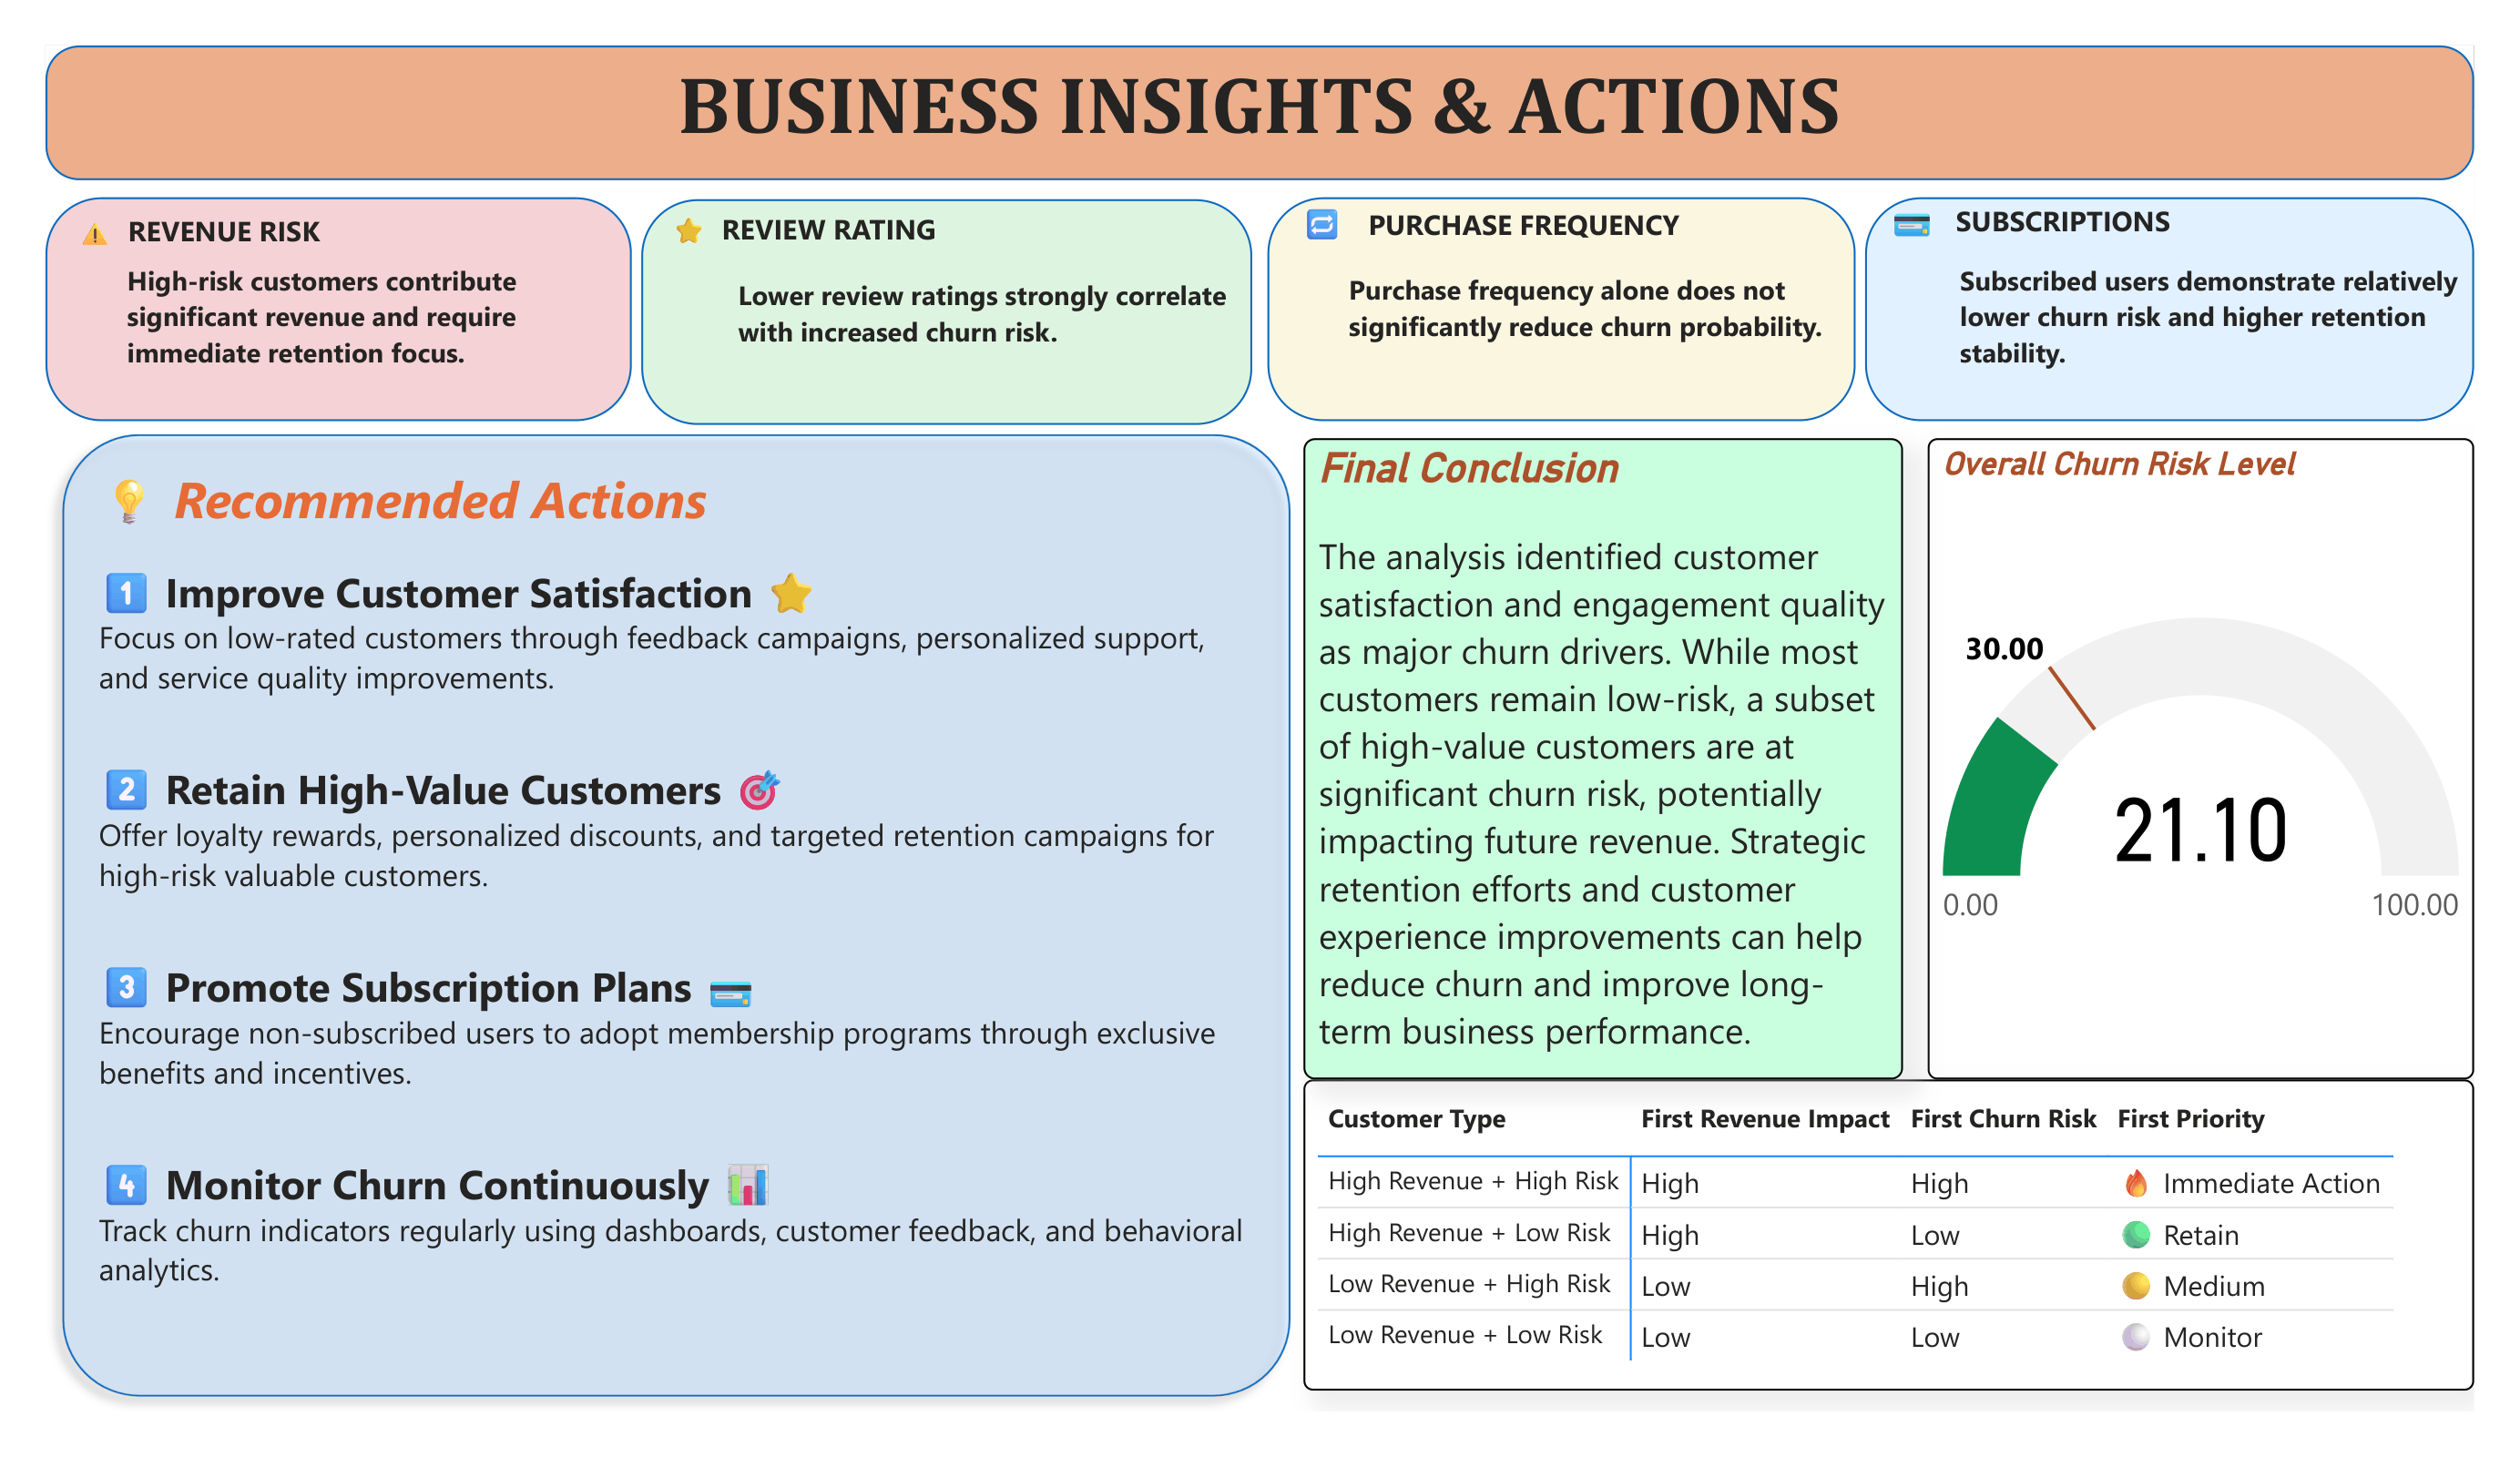

What the dashboard file says about the page in this screenshot:
{"tool":"powerbi","page":{"name":"Page 4","canvas":[1280,720],"ordinal":3},"visuals":[{"type":"shape","box":[0,0,1280,70.9],"z":0},{"type":"textbox","box":[309.4,0,660.3,61.1],"z":1000},{"type":"shape","box":[0,80.2,309.4,118.6],"z":2000,"group":"g2"},{"type":"gauge","title":"Overall Churn Risk Level","fields":{"Y":["Avg(Advanced_retail_analytics.churn_risk_score)"]},"box":[991.7,206.7,288.6,338.7],"z":2000},{"type":"shape","title":"r","box":[314.3,81.4,321.6,118.6],"z":3000,"group":"g2"},{"type":"group","id":"g1","title":"Group 1","box":[0,195.7,665.2,524.6],"z":3000},{"type":"shape","box":[958.7,80.2,321.6,118.6],"z":4000,"group":"g2"},{"type":"pivotTable","fields":{"Rows":["Priority Matrix.Customer Type"],"Values":["Min(Priority Matrix.Revenue Impact)","Min(Priority Matrix.Churn Risk)","Min(Priority Matrix.Priority)"]},"box":[662.8,545.4,617.5,163.9],"z":4000},{"type":"group","id":"g2","title":"Group 2","box":[0,73.4,1280.3,140.6],"z":5000},{"type":"shape","box":[644.4,80.2,309.4,118.6],"z":5000,"group":"g2"},{"type":"textbox","box":[966,73.4,176.1,50.8],"z":6000,"group":"g2"},{"type":"textbox","title":"Final Conclusion","box":[662.8,206.7,316.7,338.7],"z":6000},{"type":"textbox","box":[656.7,78.5,218.9,44.1],"z":7000,"group":"g2"},{"type":"textbox","box":[37.9,109,276.4,89.8],"z":8000,"group":"g2"},{"type":"textbox","box":[359.5,117.5,276.4,89.8],"z":9000,"group":"g2"},{"type":"textbox","box":[682.3,114.1,276.4,76.2],"z":10000,"group":"g2"},{"type":"textbox","box":[1003.9,109,276.4,105],"z":11000,"group":"g2"},{"type":"textbox","box":[0,82.7,179.8,42.8],"z":12000,"group":"g2"},{"type":"textbox","box":[316.7,81.9,163.9,47.4],"z":13000,"group":"g2"},{"type":"shape","box":[0,195.7,665.2,524.6],"z":15000,"group":"g1"},{"type":"textbox","box":[23,214.4,619.2,460.9],"z":16000,"group":"g1"}]}

Visuals, with their boxes on the page's 1280x720 design canvas (x1, y1, x2, y2). These are canvas units, not pixel positions in the 2520x1457 screenshot, which may show the page scaled, cropped or inside an application window:
shape: {"left": 0, "top": 0, "right": 1280, "bottom": 71}
textbox: {"left": 309, "top": 0, "right": 970, "bottom": 61}
shape: {"left": 0, "top": 80, "right": 309, "bottom": 199}
"Overall Churn Risk Level" gauge: {"left": 992, "top": 207, "right": 1280, "bottom": 545}
"r" shape: {"left": 314, "top": 81, "right": 636, "bottom": 200}
"Group 1" group: {"left": 0, "top": 196, "right": 665, "bottom": 720}
shape: {"left": 959, "top": 80, "right": 1280, "bottom": 199}
pivotTable - Priority Matrix.Customer Type x Min(Priority Matrix.Revenue Impact): {"left": 663, "top": 545, "right": 1280, "bottom": 709}
"Group 2" group: {"left": 0, "top": 73, "right": 1280, "bottom": 214}
shape: {"left": 644, "top": 80, "right": 954, "bottom": 199}
textbox: {"left": 966, "top": 73, "right": 1142, "bottom": 124}
"Final Conclusion" textbox: {"left": 663, "top": 207, "right": 980, "bottom": 545}
textbox: {"left": 657, "top": 78, "right": 876, "bottom": 123}
textbox: {"left": 38, "top": 109, "right": 314, "bottom": 199}
textbox: {"left": 360, "top": 118, "right": 636, "bottom": 207}
textbox: {"left": 682, "top": 114, "right": 959, "bottom": 190}
textbox: {"left": 1004, "top": 109, "right": 1280, "bottom": 214}
textbox: {"left": 0, "top": 83, "right": 180, "bottom": 126}
textbox: {"left": 317, "top": 82, "right": 481, "bottom": 129}
shape: {"left": 0, "top": 196, "right": 665, "bottom": 720}
textbox: {"left": 23, "top": 214, "right": 642, "bottom": 675}
